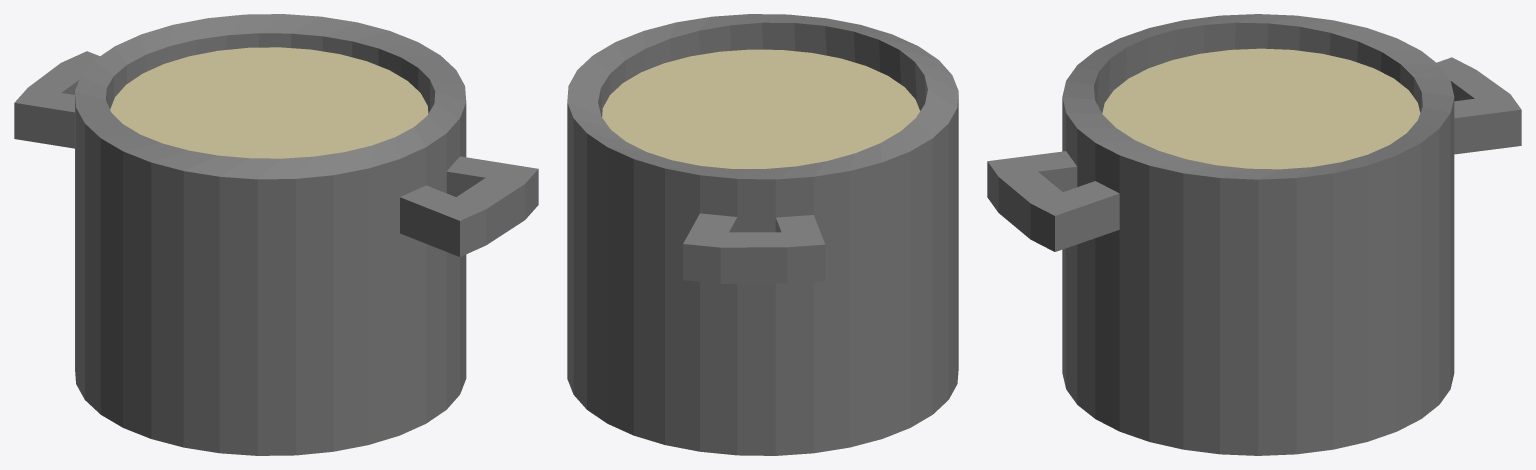
Rendered from ollaManzana.fbx.
3 views of the same model, side by side, from view 1: azimuth 30°, elevation 25°; view 2: azimuth 150°, elevation 25°; view 3: azimuth 270°, elevation 25° (orthographic).
Visible parts, largest first — view 1: Cylinder; view 2: Cylinder; view 3: Cylinder.
Boxes of the visible parts, x1,y1,x2,y2 form: Cylinder: [14, 14, 538, 455]; Cylinder: [567, 14, 958, 455]; Cylinder: [987, 14, 1521, 455].
Bounding box in the file's own units: 45 × 35.97 × 61.33.
